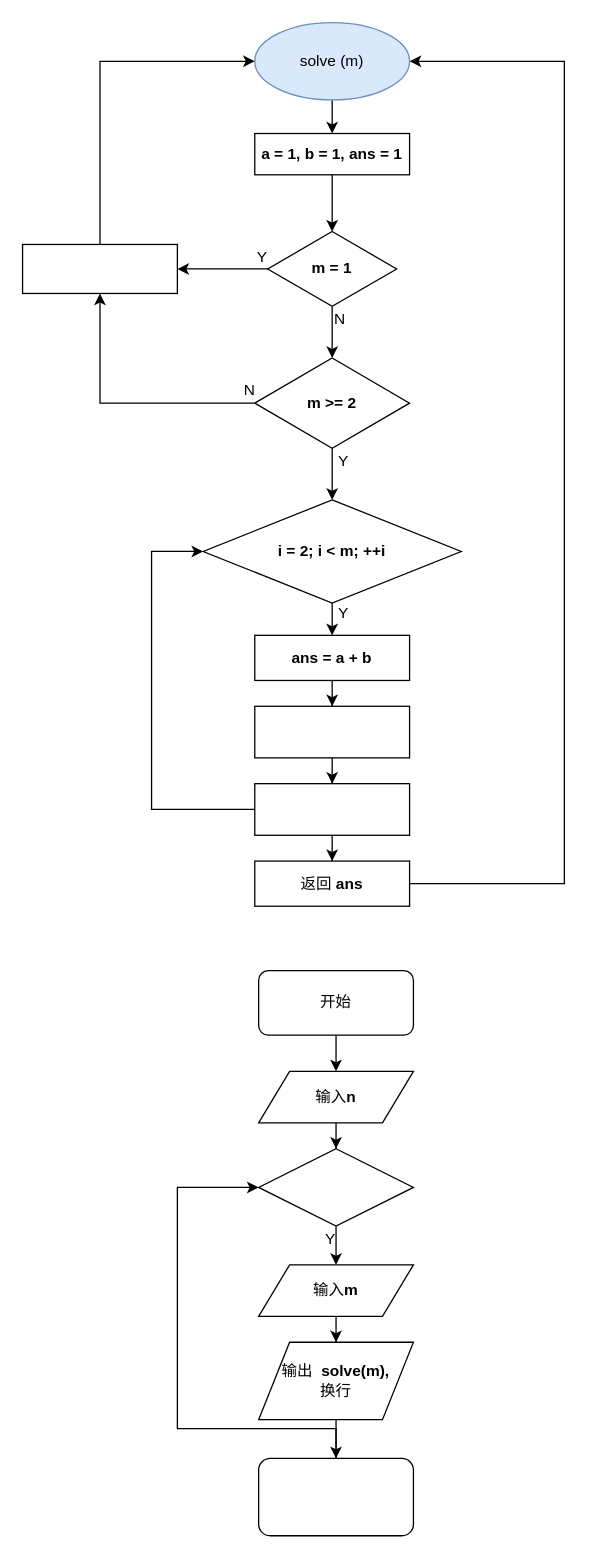
Some shapes in this 597 by 1558 pixel diagram are drawn without their labels. Each missing label, with the centre of its shape:
"a = b" goes at point (331, 731).
"ans = 0" goes at point (99, 268).
"b = ans" goes at point (331, 808).
"n--" goes at point (335, 1186).
"结束" goes at point (335, 1496).
